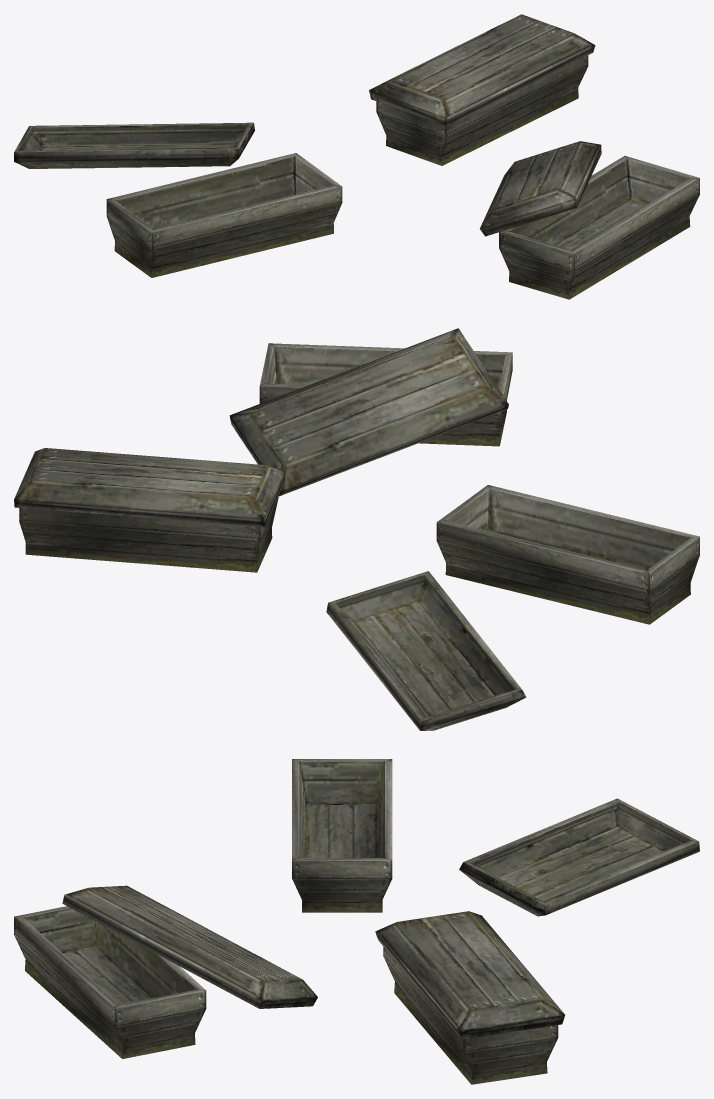
The model's file is cj_graveyard_coffin01.glb.
The picture shows the model from 3 angles, top to bottom: view 1: azimuth 30°, elevation 25°; view 2: azimuth 150°, elevation 25°; view 3: azimuth 270°, elevation 25°; orthographic projection. The views are drawn at different scales.
Visible parts, largest first — view 1: cj_graveyard_coffin01; view 2: cj_graveyard_coffin01; view 3: cj_graveyard_coffin01.
Boxes of the visible parts, x1=… form: cj_graveyard_coffin01: x1=14, y1=14, x2=699, y2=299; cj_graveyard_coffin01: x1=14, y1=328, x2=699, y2=730; cj_graveyard_coffin01: x1=14, y1=759, x2=699, y2=1084.
Size of the model in its own units: 6.15 by 1.09 by 6.43.
1 material, 1 textured.
